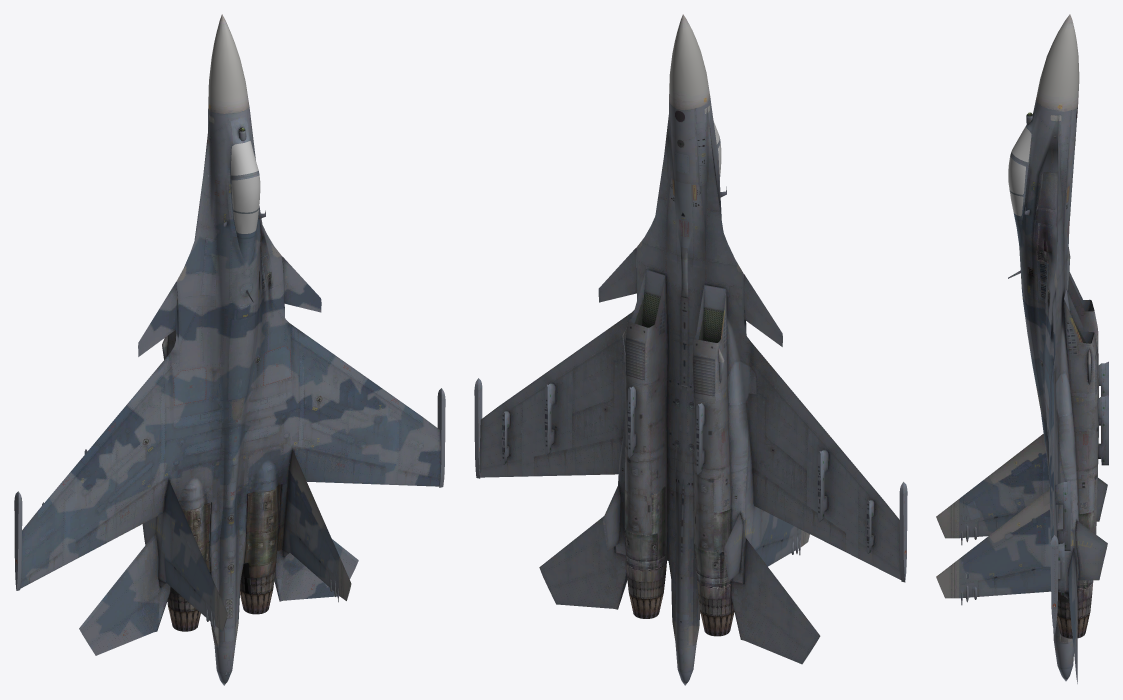
The picture shows the model from 3 angles, left to right: view 1: azimuth 30°, elevation 25°; view 2: azimuth 150°, elevation 25°; view 3: azimuth 270°, elevation 25°; orthographic projection.
Parts seen in each view (by area): view 1: LOD0, ElevatorL01, VoletL01, FlapL01, FlapR01, ElevatorR01, VoletR01, BrakeL01, Glass_Canopy01, CanardL01, CanardR01, RudderL01 (+2 smaller); view 2: LOD0, ElevatorL01, ElevatorR01, FlapL01, FlapR01, VoletL01, VoletR01, CanardL01, CanardR01; view 3: LOD0, RudderR01, ElevatorR01, Glass_Canopy01, VoletR01, EngineR01, RudderL01, Glass01, Canopy01, BrakeL01.
Part boxes in pixels (x1,y1,x2,y2): LOD0: (14,14,445,685); ElevatorL01: (79,532,170,655); VoletL01: (37,352,172,523); FlapL01: (74,477,167,559); FlapR01: (293,446,385,484); ElevatorR01: (274,539,358,601); VoletR01: (289,323,424,428); BrakeL01: (228,305,255,399); Glass_Canopy01: (231,175,260,233); CanardL01: (138,282,177,356); CanardR01: (282,256,321,312); RudderL01: (165,560,206,617); LOD0: (474,14,907,685); ElevatorL01: (731,538,820,664); ElevatorR01: (539,516,627,609); FlapL01: (752,468,846,551); FlapR01: (534,438,622,476); VoletL01: (750,342,884,512); VoletR01: (497,313,631,418); CanardL01: (743,273,782,346); CanardR01: (598,247,636,302); LOD0: (936,14,1108,681); RudderR01: (977,568,1050,596); ElevatorR01: (1059,548,1077,683); Glass_Canopy01: (1008,156,1025,216); VoletR01: (1051,360,1055,536); EngineR01: (1057,612,1090,638); RudderL01: (977,513,1017,536); Glass01: (1011,126,1031,162); Canopy01: (1009,154,1031,220); BrakeL01: (1023,294,1039,388).
Bounding box in the file's own units: 14.27 × 21.41 × 5.02.
